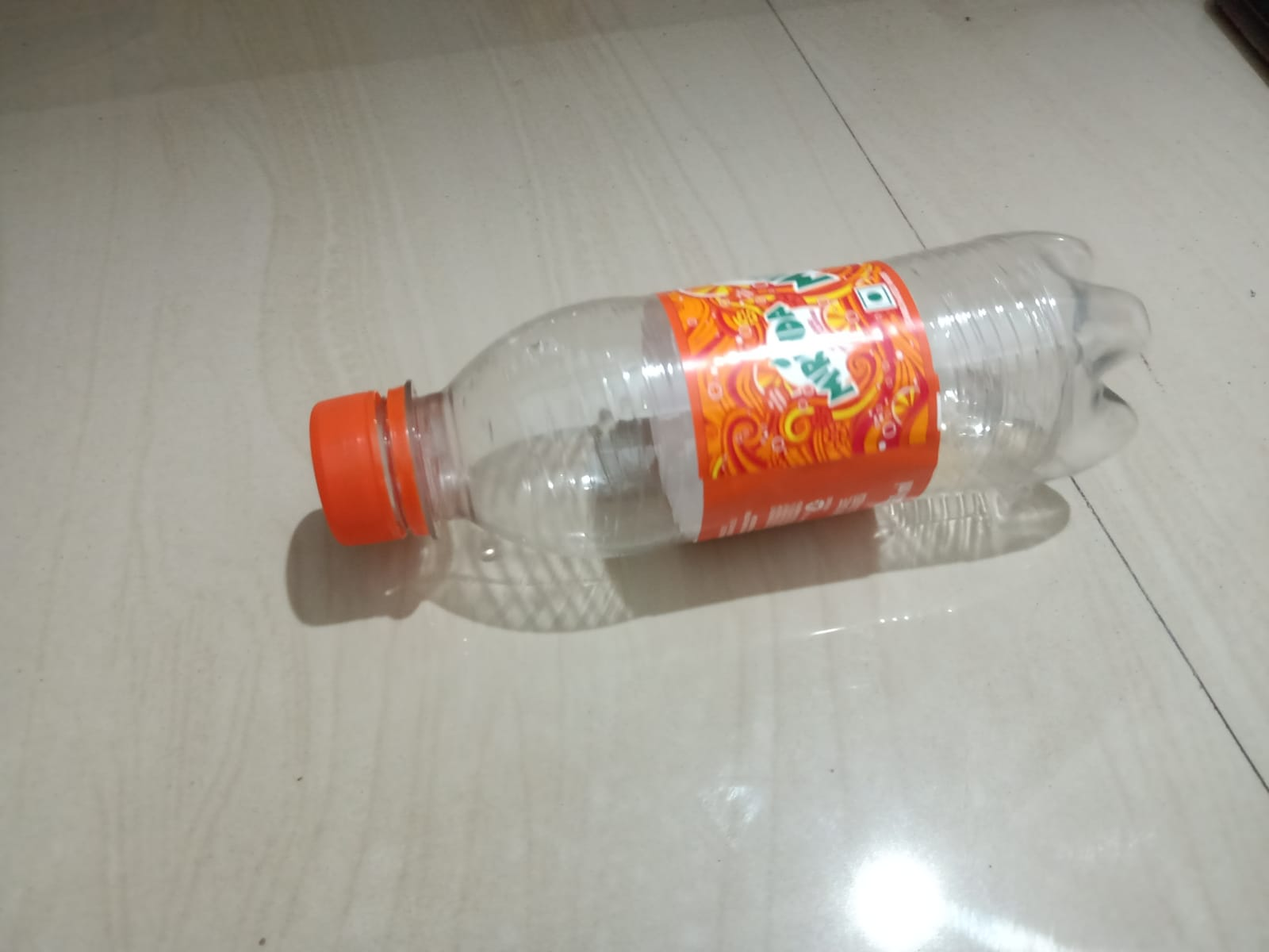plastic: (274, 228, 1224, 567)
